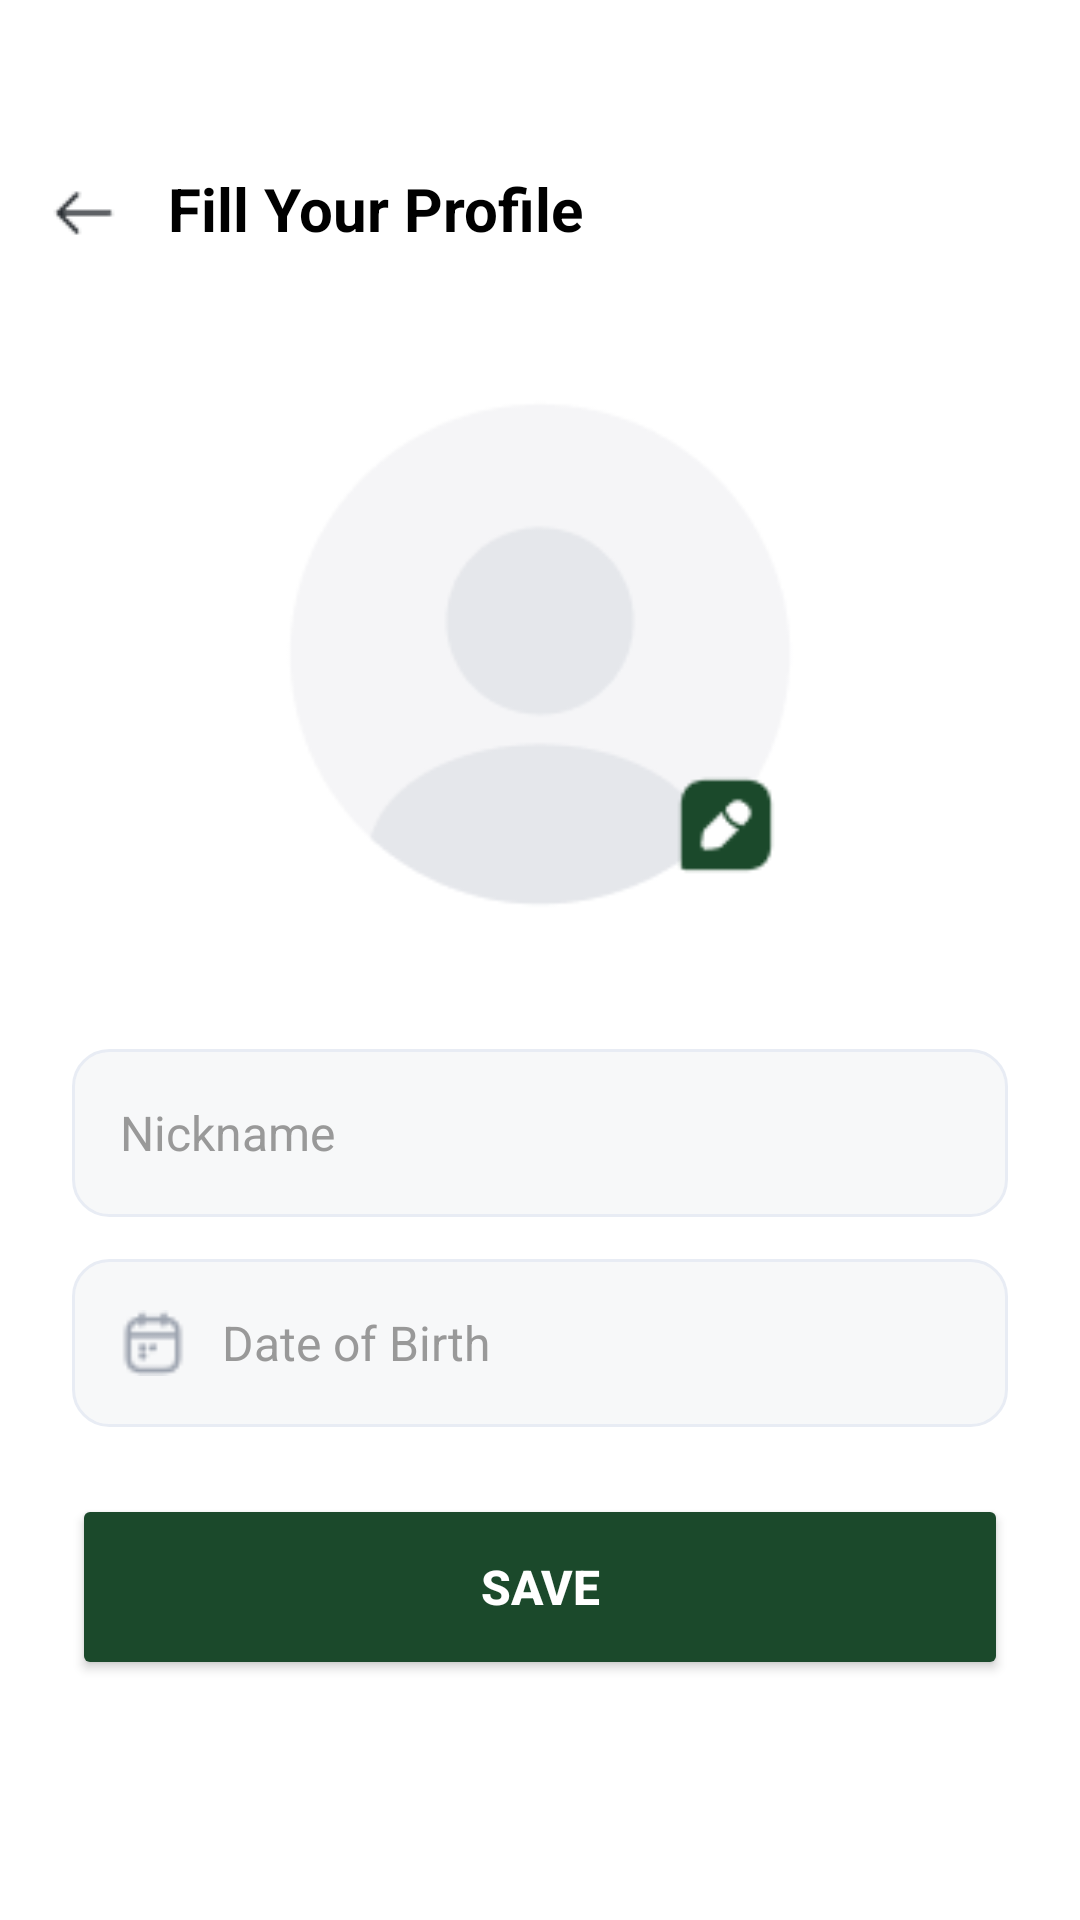

Named icons in this screenshot (1080w x 1920h) and their centers, (x=x, y=y):
Back button: (x=84, y=213)
Calendar icon: (x=153, y=1343)
